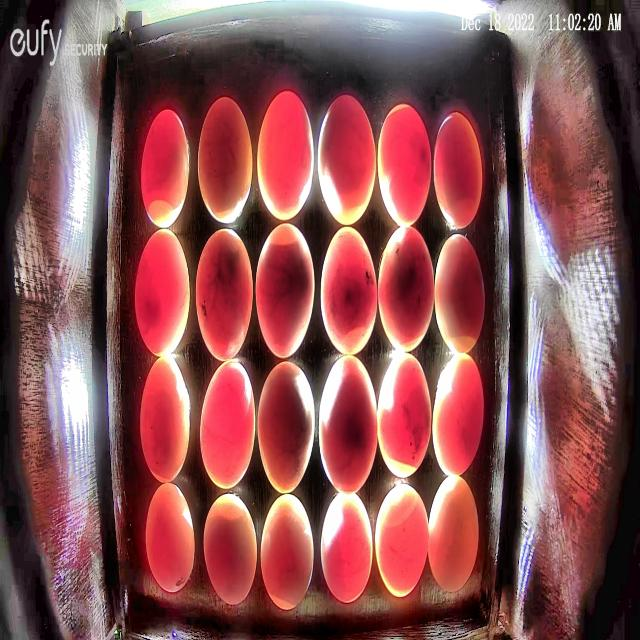DE: (374, 481, 428, 598), (429, 476, 479, 593)
FE: (318, 356, 378, 496), (255, 221, 315, 360), (195, 226, 254, 362), (317, 93, 376, 226), (257, 359, 315, 494), (319, 226, 378, 357), (199, 357, 256, 491), (257, 90, 315, 221), (134, 226, 189, 358), (197, 96, 253, 225), (378, 225, 434, 353), (376, 103, 432, 228), (377, 353, 432, 479), (139, 353, 191, 484), (432, 353, 484, 477), (260, 492, 314, 611), (434, 232, 485, 352), (204, 494, 258, 606), (140, 108, 189, 229), (433, 112, 483, 228), (320, 493, 373, 602), (145, 484, 196, 594)
